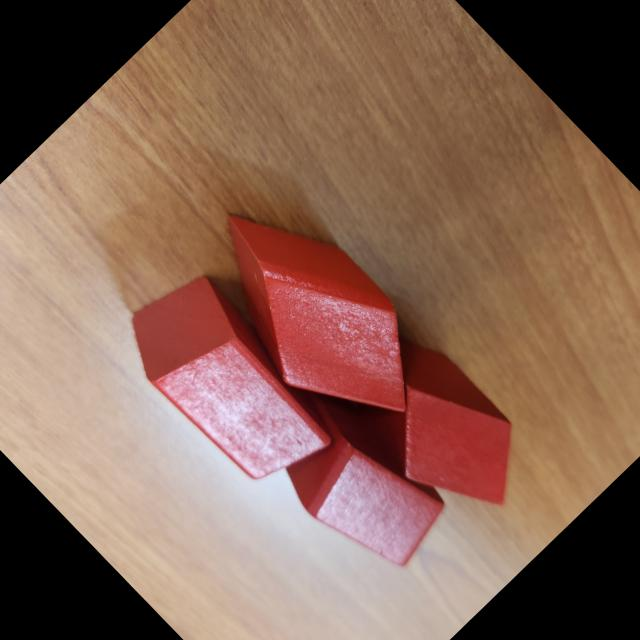red: (173, 174, 454, 458), (109, 258, 354, 506), (250, 368, 472, 591), (332, 319, 552, 541)
